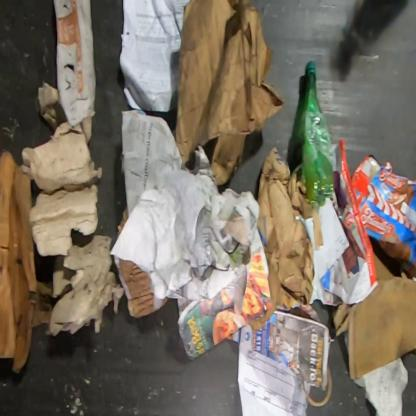cardboard: (19, 82, 125, 337), (172, 0, 285, 186), (0, 149, 57, 374), (332, 252, 415, 381), (351, 154, 416, 280), (113, 256, 169, 318)
soft_plastic: (286, 59, 334, 207)
